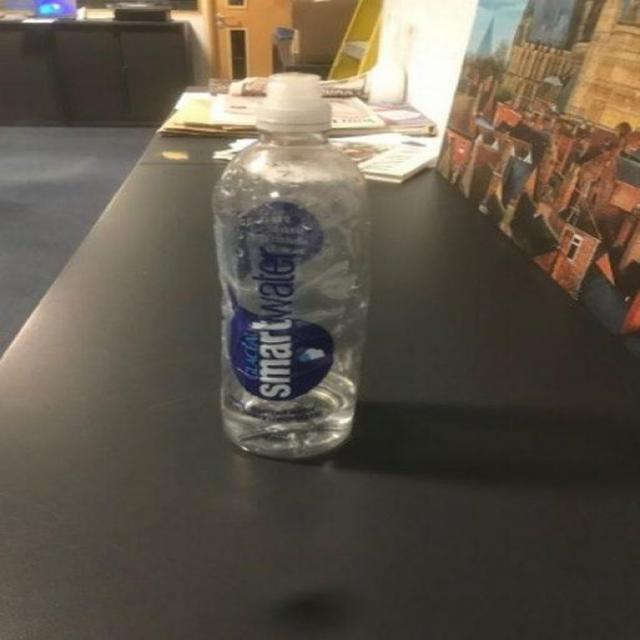bottle: (203, 88, 385, 460)
